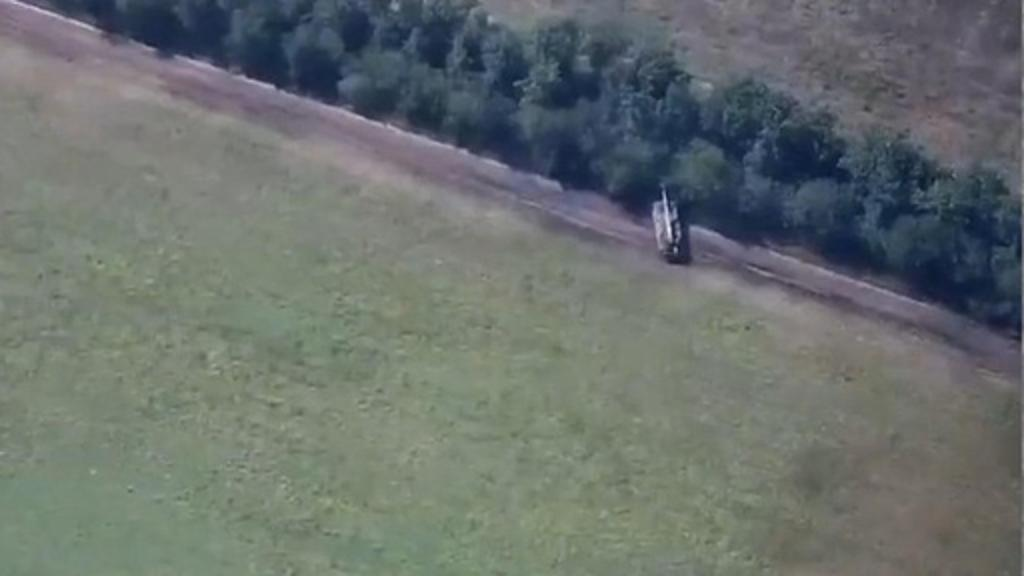ART: (650, 178, 686, 260)
